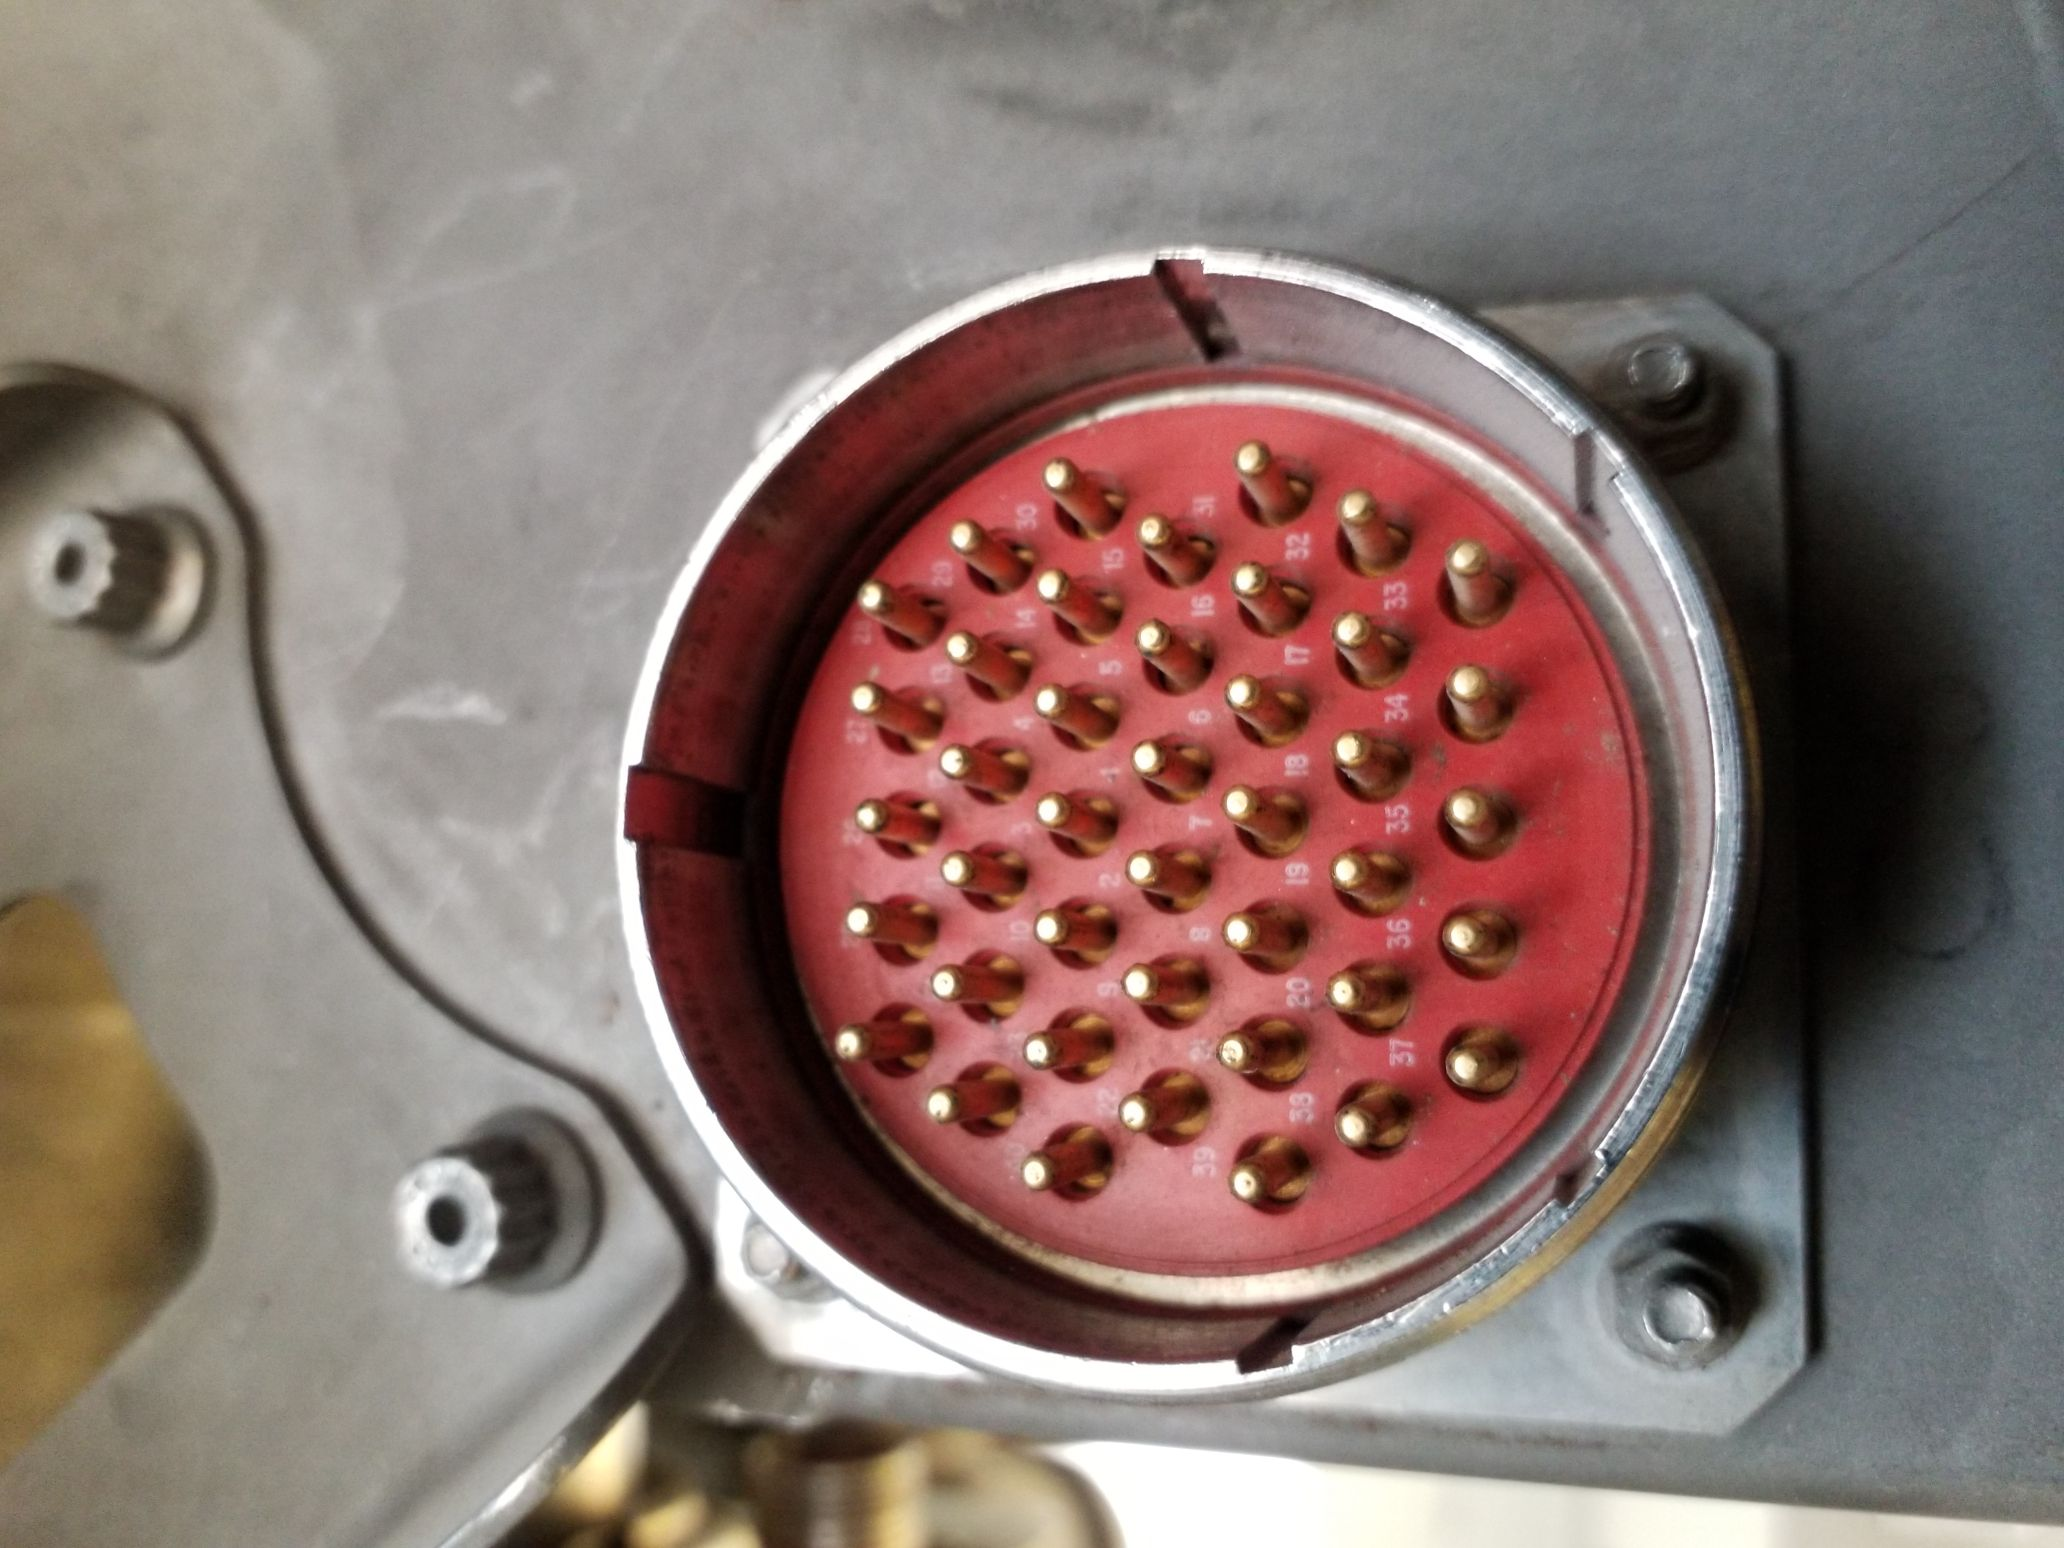outlet: (609, 237, 1762, 1398)
